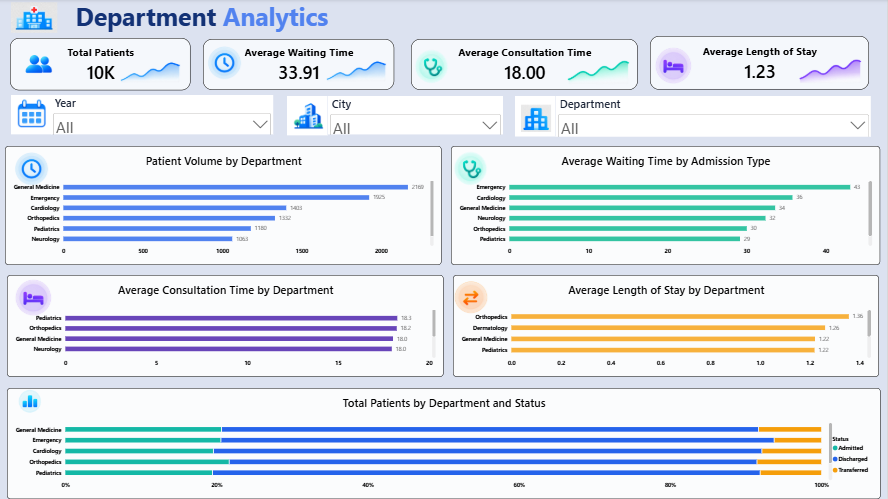

What the dashboard file says about the page in this screenshot:
{"tool":"powerbi","page":{"name":"Department Analytics","canvas":[1920,1080],"ordinal":2},"visuals":[{"type":"textbox","box":[0,0,876,96],"z":0},{"type":"cardVisual","fields":{"Data":["hospital_operations.Total Patients"]},"box":[23.3,83.3,390,113.3],"z":1000},{"type":"cardVisual","fields":{"Data":["hospital_operations.Average Waiting Time"]},"box":[440,86.7,413.3,110],"z":2000},{"type":"cardVisual","fields":{"Data":["hospital_operations.Average Consultation Time"]},"box":[890,86.7,490,110],"z":3000},{"type":"cardVisual","fields":{"Data":["hospital_operations.Average Length of Stay"]},"box":[1406.7,80,473.3,116.7],"z":4000},{"type":"barChart","title":"Patient Volume by Department","fields":{"Category":["hospital_operations.Department"],"Y":["hospital_operations.Total Patients"]},"box":[13.3,316.7,943.3,256.7],"z":5000},{"type":"clusteredBarChart","title":"Average Waiting Time by Admission Type","fields":{"Category":["hospital_operations.Department"],"Y":["hospital_operations.Average Waiting Time"]},"box":[976.7,316.7,926.7,256.7],"z":6000},{"type":"barChart","title":"Average Consultation Time by Department","fields":{"Category":["hospital_operations.Department"],"Y":["hospital_operations.Average Consultation Time"]},"box":[16.7,596.7,943.3,220],"z":7000},{"type":"barChart","title":"Average Length of Stay by Department","fields":{"Category":["hospital_operations.Department"],"Y":["hospital_operations.Average Length of Stay"]},"box":[980,596.7,920,220],"z":8000},{"type":"hundredPercentStackedBarChart","fields":{"Category":["hospital_operations.Department"],"Series":["hospital_operations.Status"],"Y":["hospital_operations.Total Patients"]},"box":[16.7,840,1886.7,240],"z":9000},{"type":"slicer","fields":{"Values":["hospital_operations.City"]},"box":[710,210,377.5,82.5],"z":10000},{"type":"slicer","fields":{"Values":["hospital_operations.Department"]},"box":[1202.5,210,680,87.5],"z":11000},{"type":"slicer","fields":{"Values":["hospital_operations.Year"]},"box":[112.5,207.5,480,85],"z":12000},{"type":"image","box":[25,0,100,80],"z":13000},{"type":"shape","box":[25,207.5,87.5,85],"z":14000},{"type":"shape","box":[622.5,210,87.5,85],"z":15000},{"type":"shape","box":[1115,210,87.5,87.5],"z":15001},{"type":"image","box":[27.5,210,85,75],"z":15002},{"type":"image","box":[632.5,215,70,72.5],"z":15003},{"type":"image","box":[1127.5,220,65,75],"z":15004},{"type":"image","box":[27.5,297.5,85,135],"z":15005},{"type":"image","box":[47.5,95,77,87],"z":15006},{"type":"image","box":[257.5,80,138.2,151.2],"z":15007},{"type":"image","box":[895,95,80,100],"z":15008},{"type":"image","box":[1407.5,97.5,97.5,90],"z":15009},{"type":"image","box":[445,70,85,135],"z":15010},{"type":"image","box":[25,597.5,97.5,90],"z":15011},{"type":"image","box":[702.5,77.5,138.2,151.2],"z":15012},{"type":"image","box":[1225,80,138.2,151.2],"z":15013},{"type":"image","box":[1725,77.5,138.2,151.2],"z":15014},{"type":"image","box":[977.5,315,80,100],"z":15015},{"type":"image","box":[980,597.5,77.5,90],"z":15016},{"type":"image","box":[22.5,840,90,55],"z":15017}]}

Visuals, with their boxes in screenshot pixels (x1, y1, x2, y2), scaled from the page's 1920x1080 canvas onto the 888x499 screenshot:
textbox: pyautogui.locateOnScreen(0, 0, 405, 44)
cardVisual - hospital_operations.Total Patients: pyautogui.locateOnScreen(11, 38, 191, 91)
cardVisual - hospital_operations.Average Waiting Time: pyautogui.locateOnScreen(204, 40, 395, 91)
cardVisual - hospital_operations.Average Consultation Time: pyautogui.locateOnScreen(412, 40, 638, 91)
cardVisual - hospital_operations.Average Length of Stay: pyautogui.locateOnScreen(651, 37, 870, 91)
"Patient Volume by Department" barChart: pyautogui.locateOnScreen(6, 146, 442, 265)
"Average Waiting Time by Admission Type" clusteredBarChart: pyautogui.locateOnScreen(452, 146, 880, 265)
"Average Consultation Time by Department" barChart: pyautogui.locateOnScreen(8, 276, 444, 377)
"Average Length of Stay by Department" barChart: pyautogui.locateOnScreen(453, 276, 879, 377)
hundredPercentStackedBarChart - hospital_operations.Department x hospital_operations.Status: pyautogui.locateOnScreen(8, 388, 880, 498)
slicer - hospital_operations.City: pyautogui.locateOnScreen(328, 97, 503, 135)
slicer - hospital_operations.Department: pyautogui.locateOnScreen(556, 97, 871, 137)
slicer - hospital_operations.Year: pyautogui.locateOnScreen(52, 96, 274, 135)
image: pyautogui.locateOnScreen(12, 0, 58, 37)
shape: pyautogui.locateOnScreen(12, 96, 52, 135)
shape: pyautogui.locateOnScreen(288, 97, 328, 136)
shape: pyautogui.locateOnScreen(516, 97, 556, 137)
image: pyautogui.locateOnScreen(13, 97, 52, 132)
image: pyautogui.locateOnScreen(293, 99, 325, 133)
image: pyautogui.locateOnScreen(521, 102, 552, 136)
image: pyautogui.locateOnScreen(13, 137, 52, 200)
image: pyautogui.locateOnScreen(22, 44, 58, 84)
image: pyautogui.locateOnScreen(119, 37, 183, 107)
image: pyautogui.locateOnScreen(414, 44, 451, 90)
image: pyautogui.locateOnScreen(651, 45, 696, 87)
image: pyautogui.locateOnScreen(206, 32, 245, 95)
image: pyautogui.locateOnScreen(12, 276, 57, 318)
image: pyautogui.locateOnScreen(325, 36, 389, 106)
image: pyautogui.locateOnScreen(567, 37, 630, 107)
image: pyautogui.locateOnScreen(798, 36, 862, 106)
image: pyautogui.locateOnScreen(452, 146, 489, 192)
image: pyautogui.locateOnScreen(453, 276, 489, 318)
image: pyautogui.locateOnScreen(10, 388, 52, 414)
